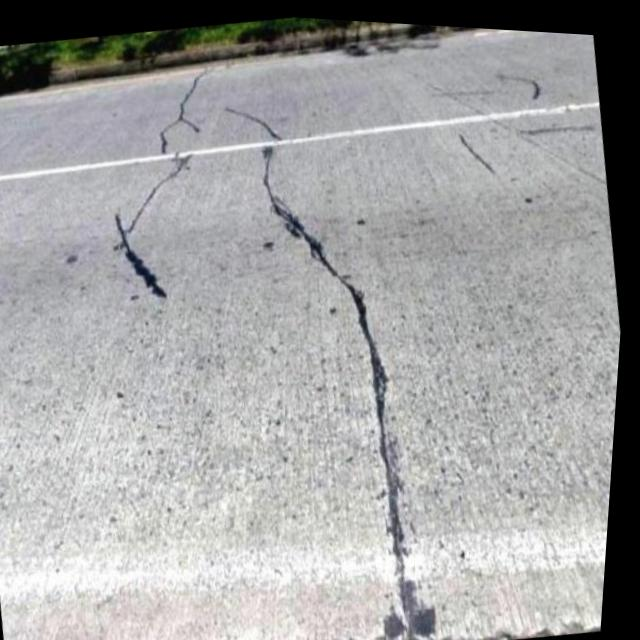Crack: (346, 381, 468, 640), (298, 249, 435, 452), (232, 136, 359, 303), (92, 176, 205, 326), (125, 82, 221, 221), (203, 76, 298, 181), (136, 52, 227, 148)
